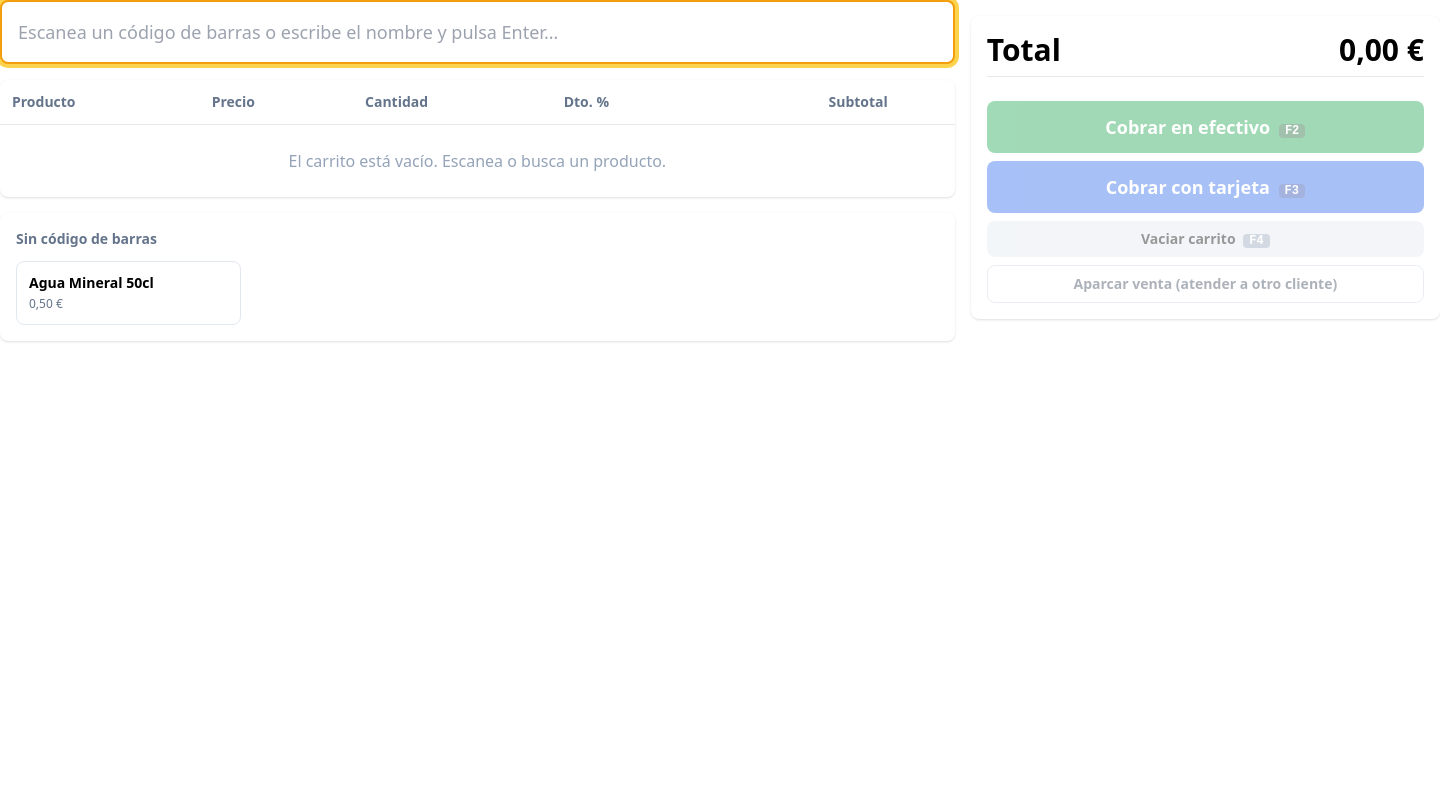
Test: cobro con teclas rápidas › F2 abre el modal de cobro en efectivo
Click the button "Agua Mineral 50cl 0,50 €".
click(128, 293)  # box top-left (16, 261), bottom-right (241, 324)
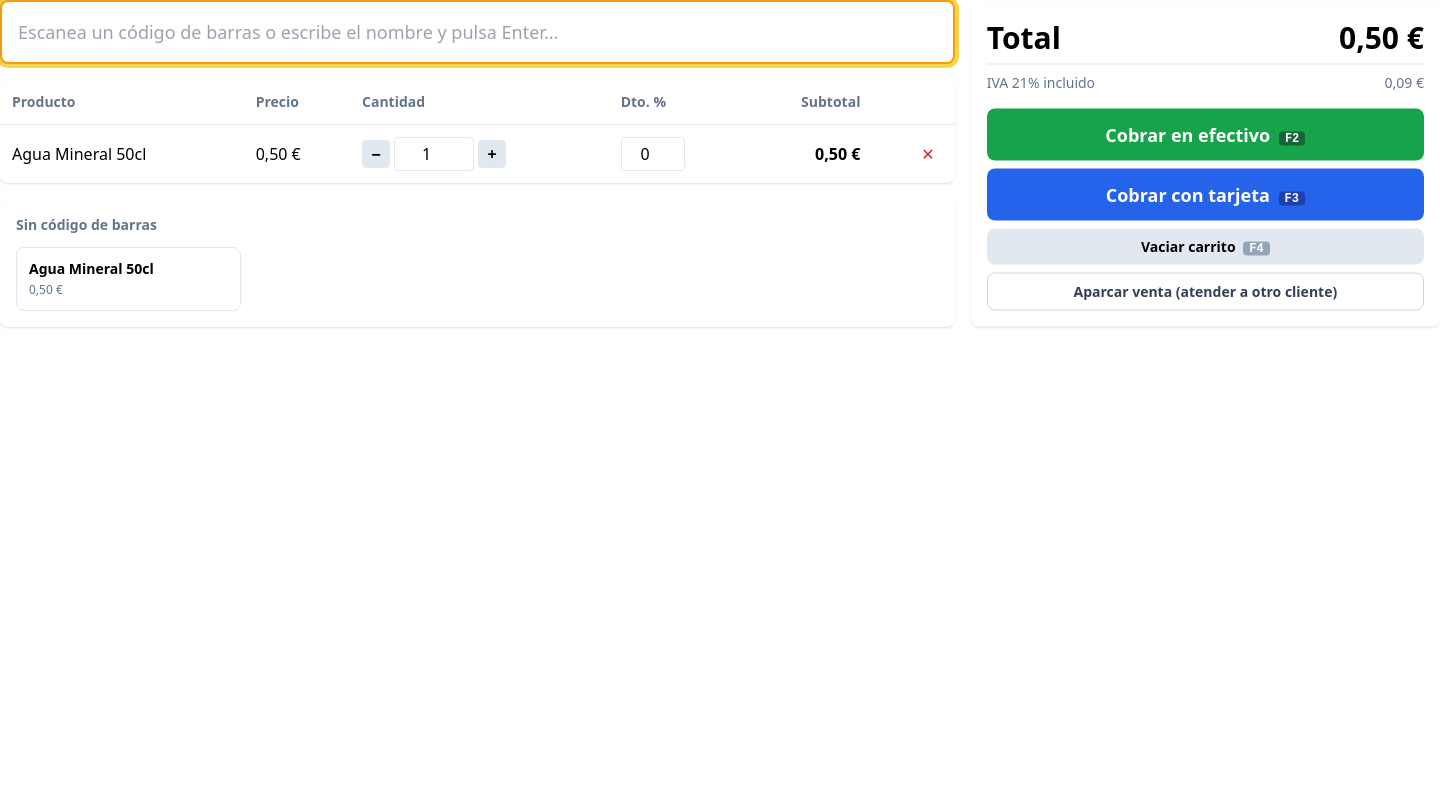
Press F2
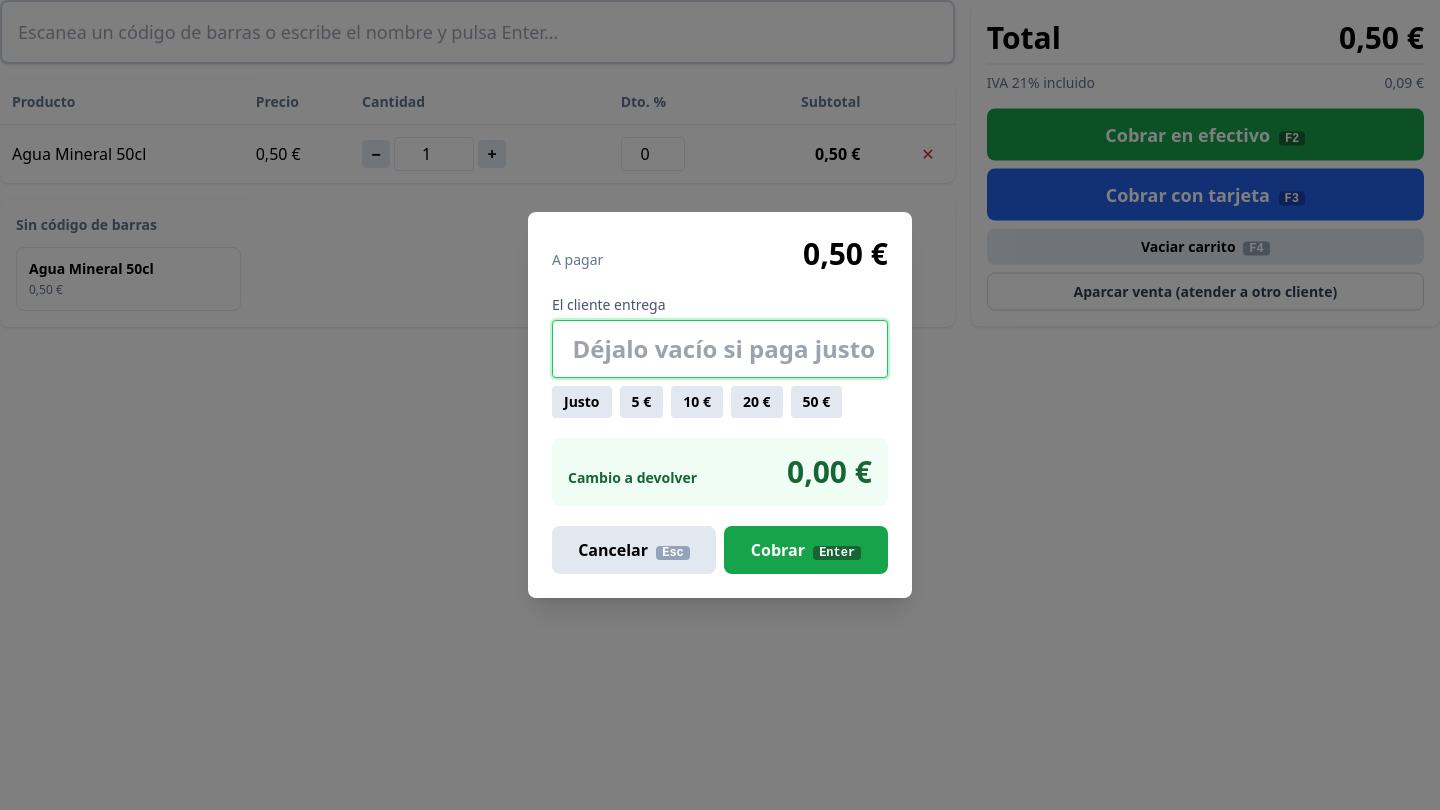
Now the text "El cliente entrega" is shown, box top-left (552, 295), bottom-right (666, 314)
